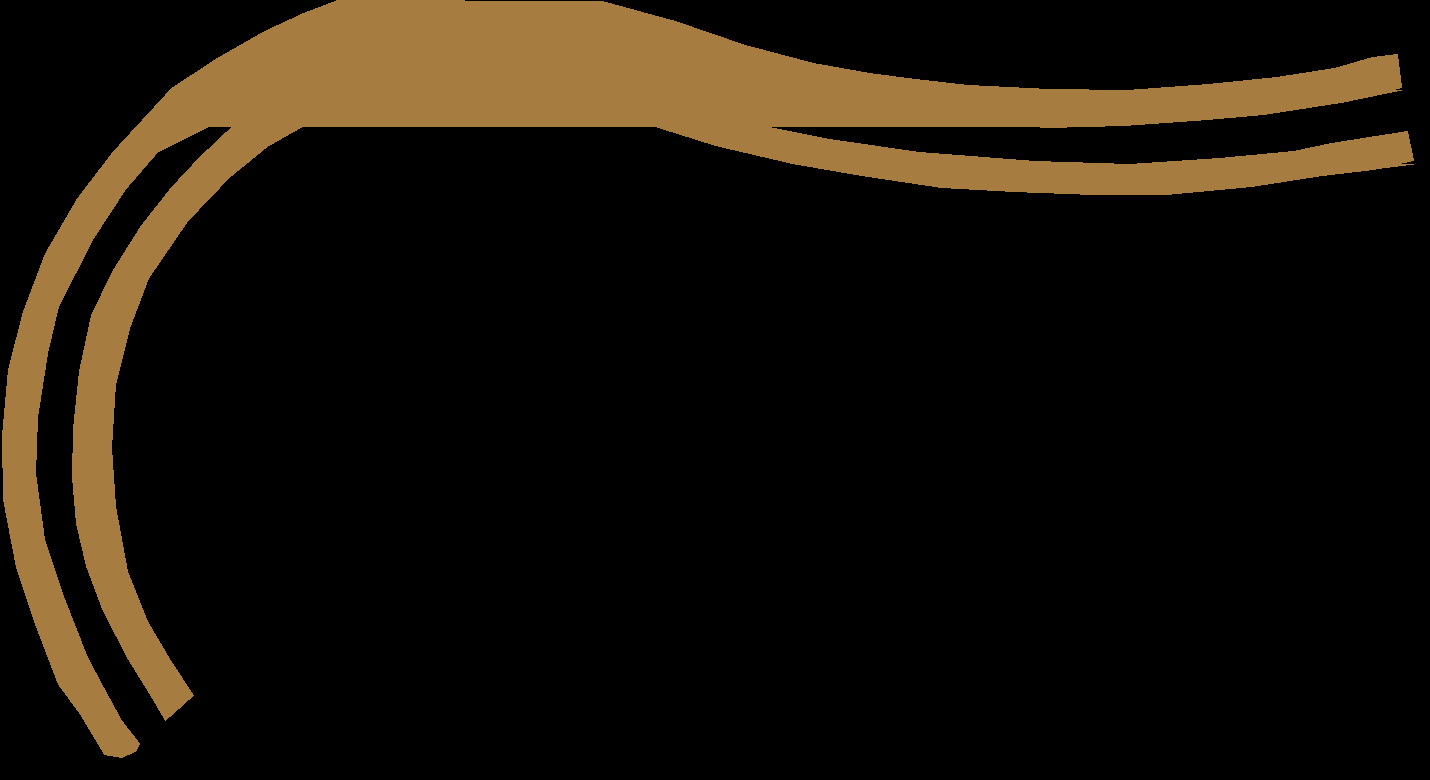parkingspot: (2, 0, 1401, 757), (72, 53, 428, 720), (475, 51, 1413, 194), (438, 51, 460, 85)
